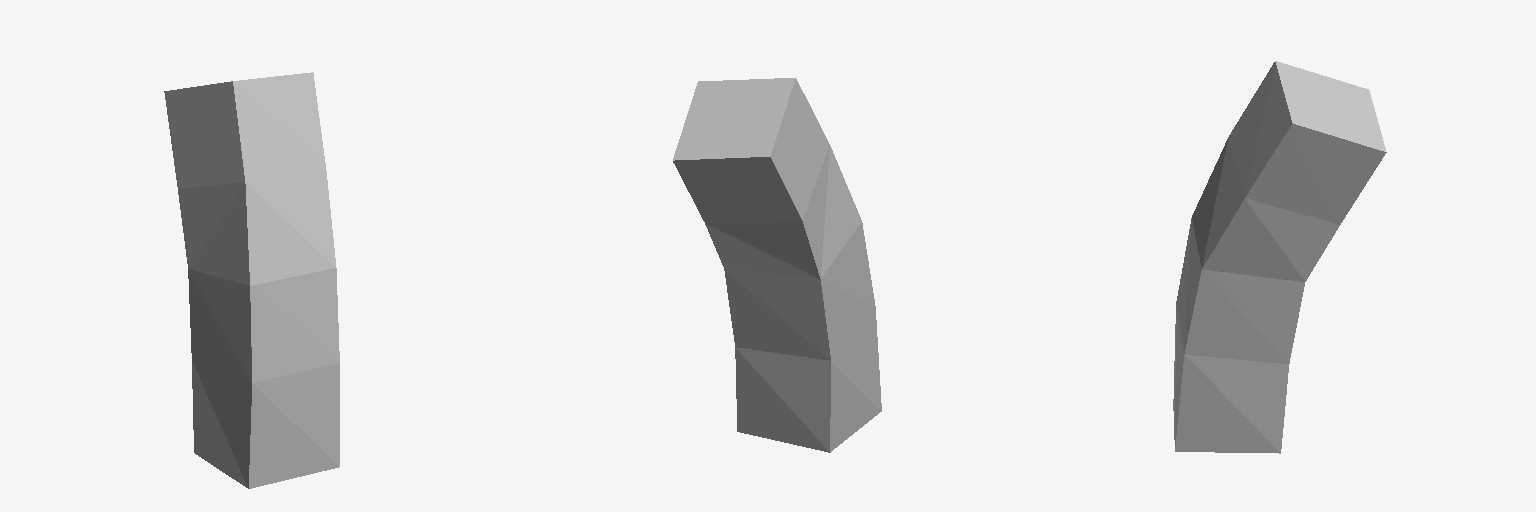
The model's file is wiggle_000017.obj.
3 renders of one model, left to right at view 1: azimuth 30°, elevation 25°; view 2: azimuth 150°, elevation 25°; view 3: azimuth 270°, elevation 25°, orthographic.
Visible parts, largest first — view 1: Cube; view 2: Cube; view 3: Cube.
Part boxes in pixels (left/top/right/bottom): Cube: left=164, top=72, right=339, bottom=488; Cube: left=673, top=78, right=881, bottom=452; Cube: left=1173, top=61, right=1386, bottom=453.
Size of the model in its own units: 2.76 by 7.57 by 4.